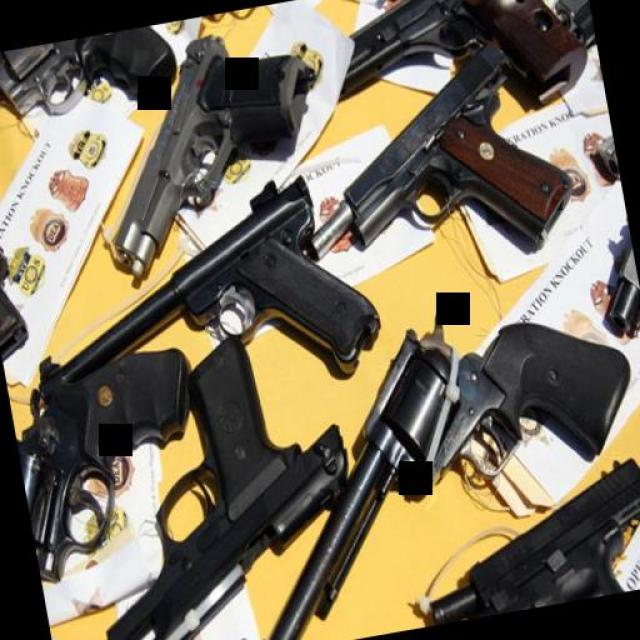gun: (190, 265, 640, 640), (47, 317, 382, 640), (6, 166, 388, 426), (66, 9, 352, 295), (282, 29, 582, 282), (1, 326, 220, 596), (312, 0, 598, 145), (0, 21, 188, 181)
